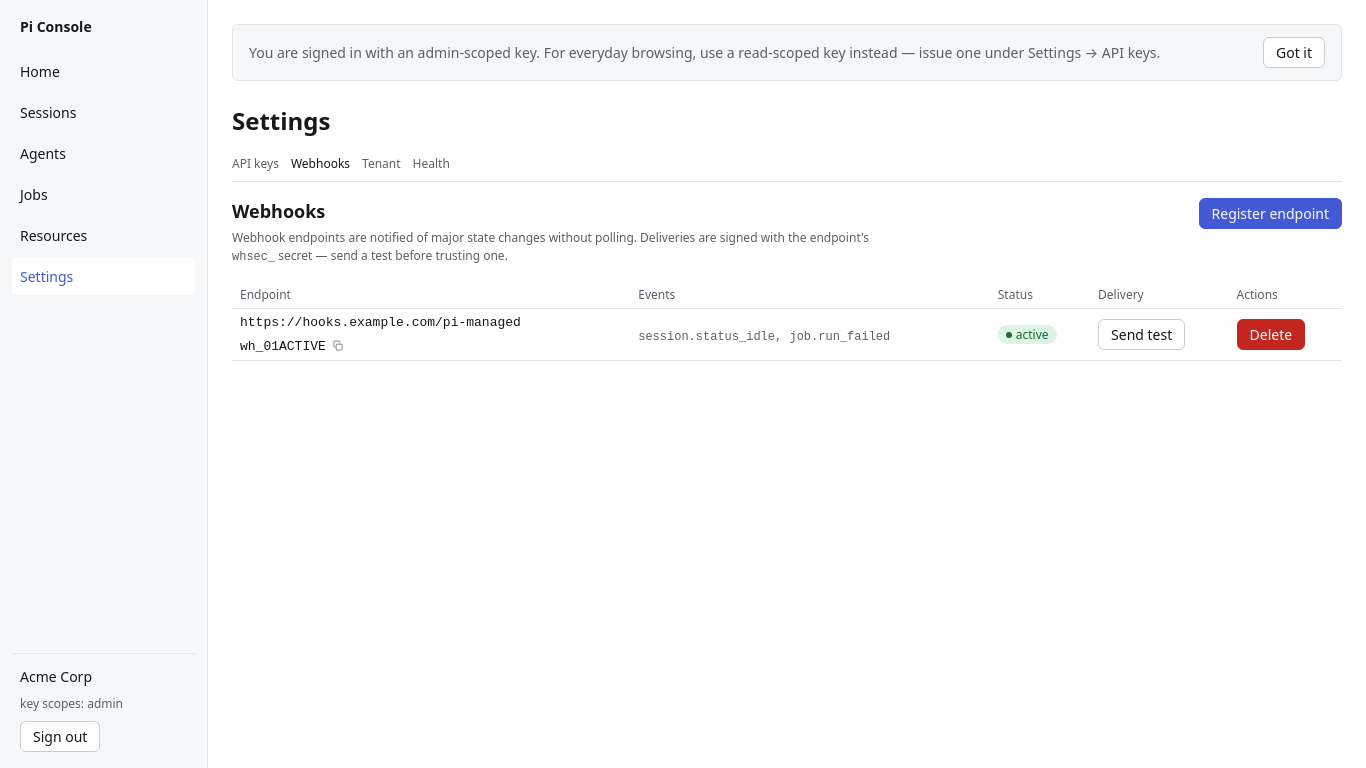
Test: delete (DP-7) › typed confirmation names the consequences — secret discarded, re-register mints a NEW one
Click the button "Delete": (1271, 335) x1=1236 y1=319 x2=1305 y2=350
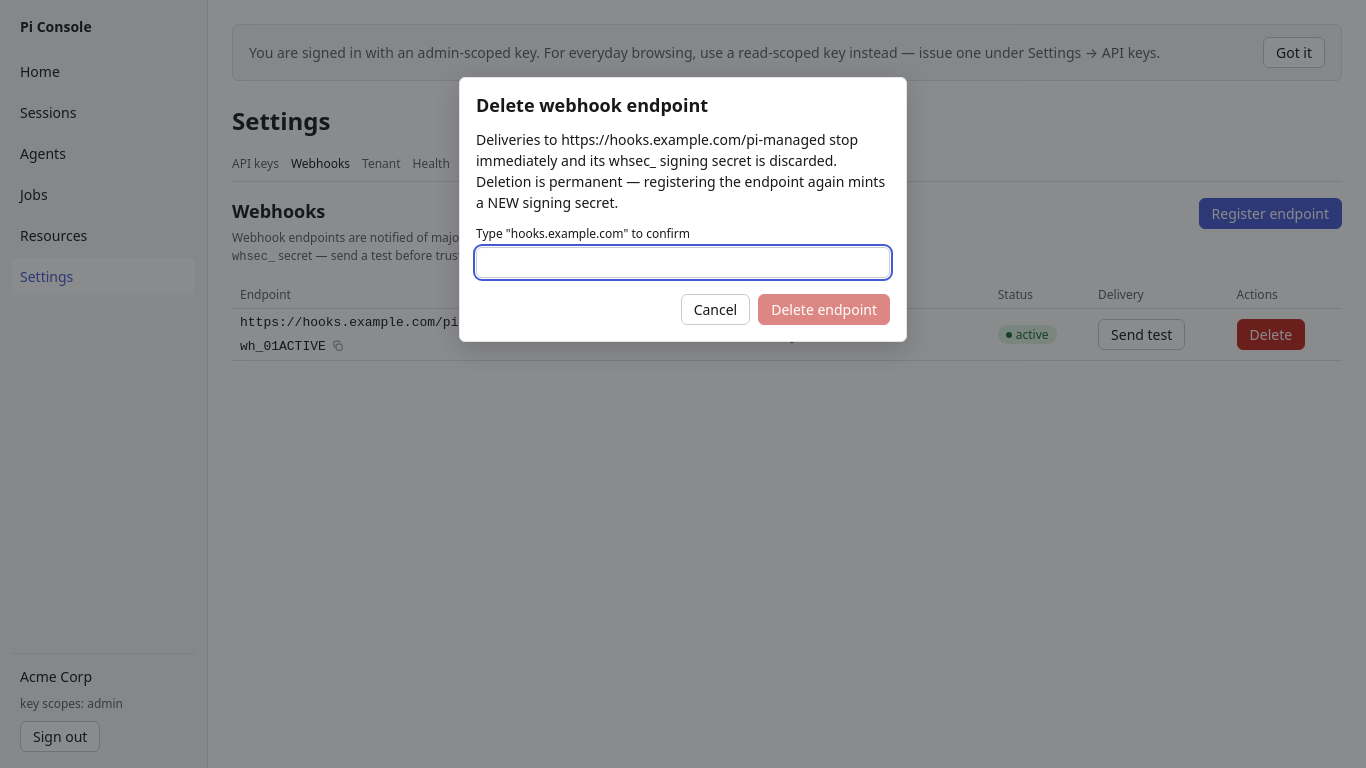
Now the dialog "Delete webhook endpoint" shows "signing secret is discarded", box x1=476 y1=130 x2=885 y2=212
Now the dialog "Delete webhook endpoint" shows "NEW signing secret", box x1=476 y1=130 x2=885 y2=212
Now the button "Delete endpoint" is disabled, box x1=758 y1=294 x2=890 y2=325
In the field labelled "Type \"hooks.example.com\" to confirm": (683, 263) x1=476 y1=247 x2=890 y2=278, type "hooks.example.com"
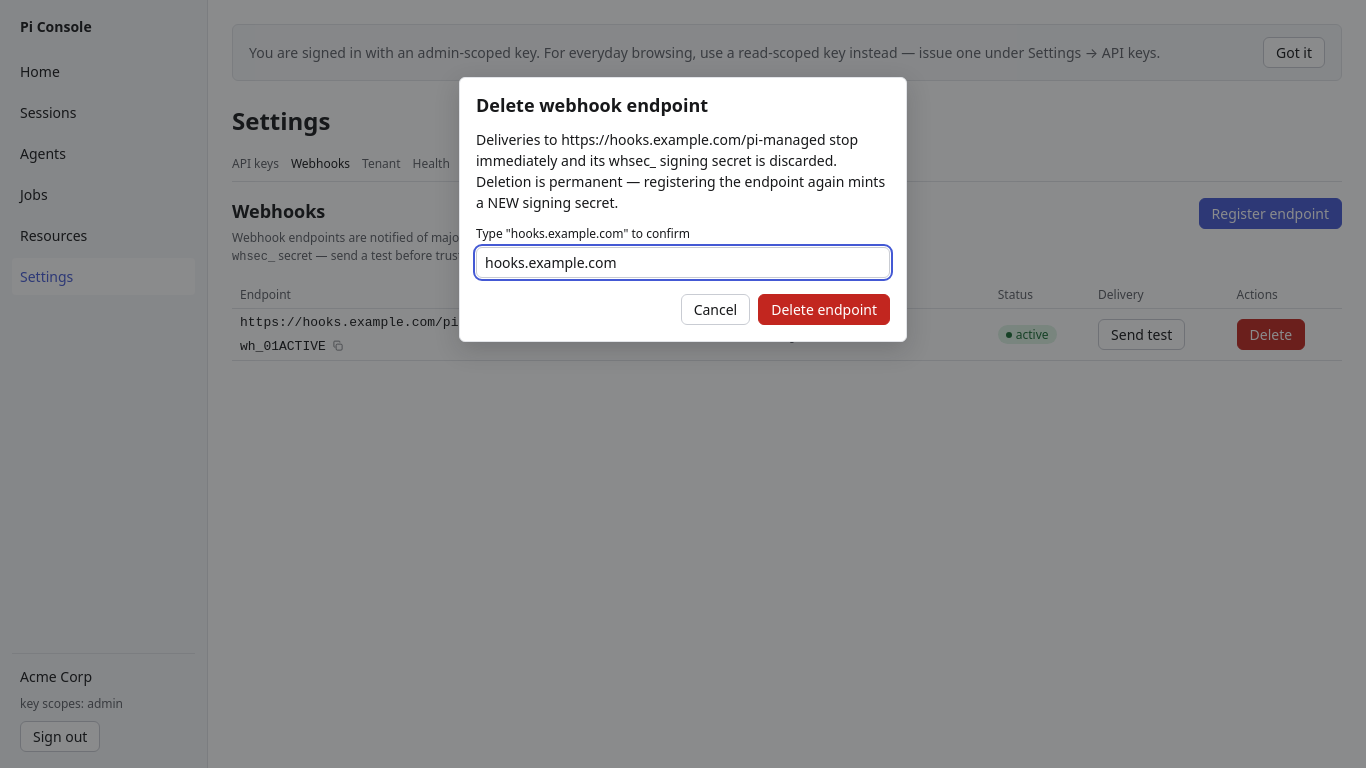
Click the button "Delete endpoint": (824, 310) x1=758 y1=294 x2=890 y2=325
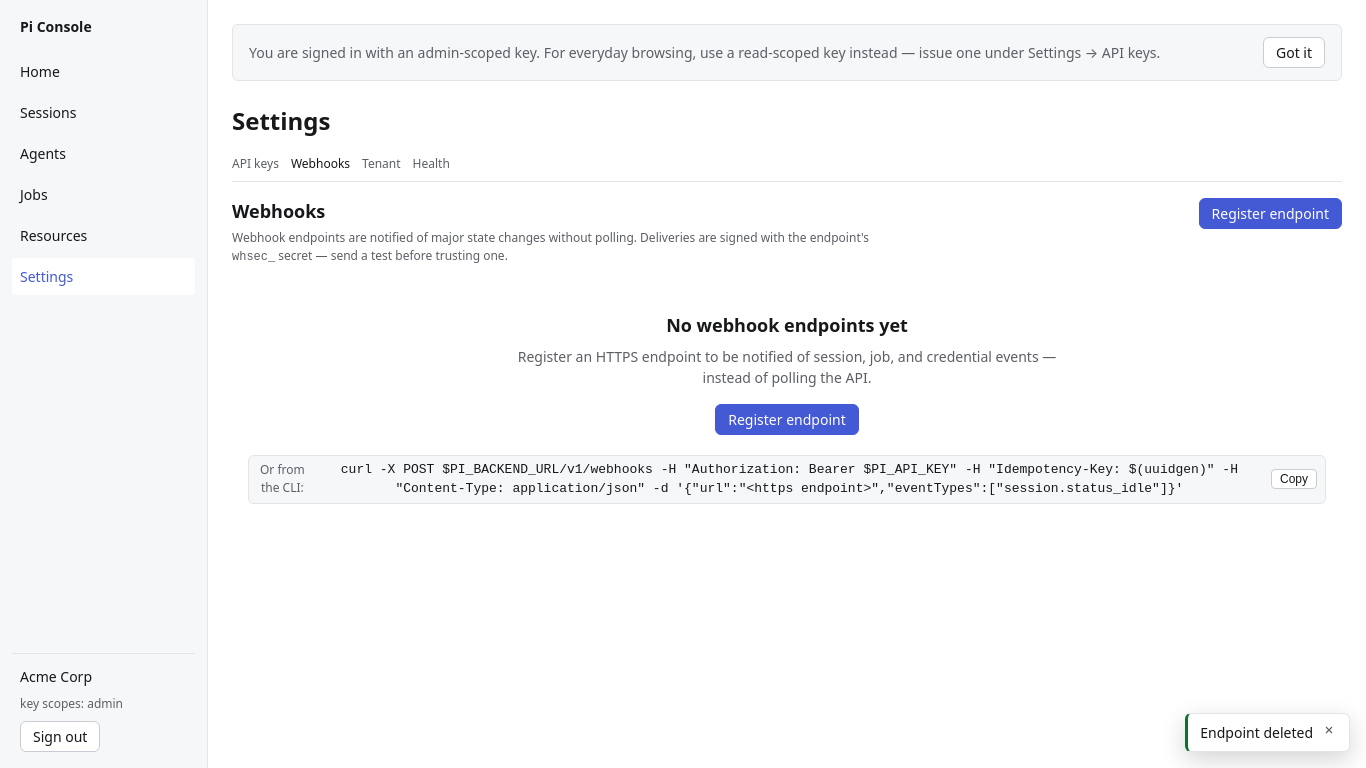
Now the heading "No webhook endpoints yet" is shown, box x1=666 y1=314 x2=908 y2=338
